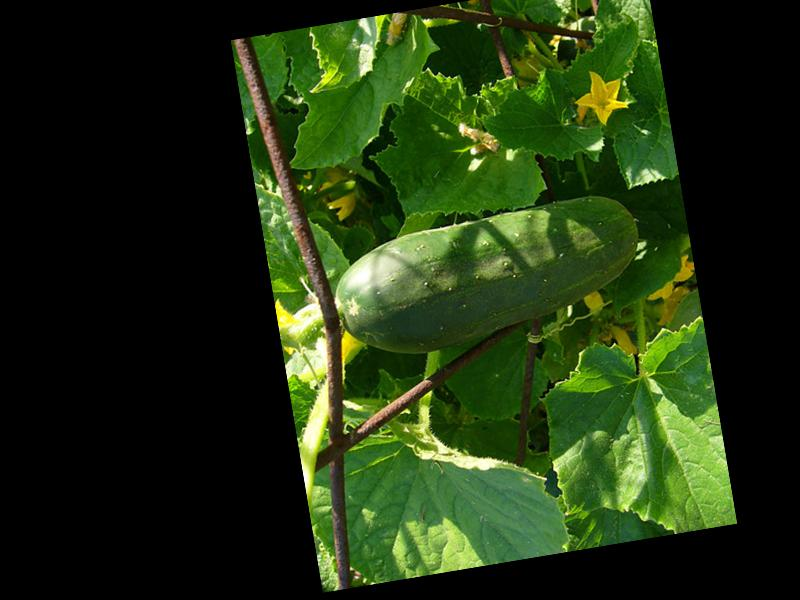Cucumber: (325, 188, 653, 368)
